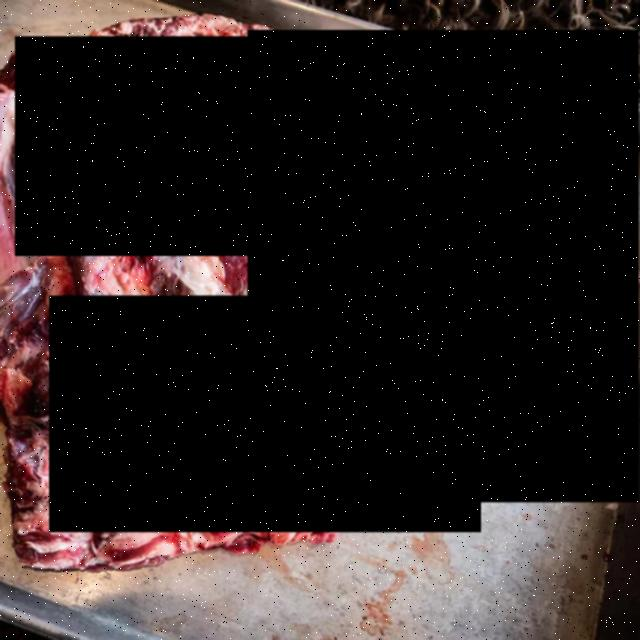Buff_Meat: (248, 31, 640, 503), (49, 296, 481, 533), (16, 37, 351, 257)
